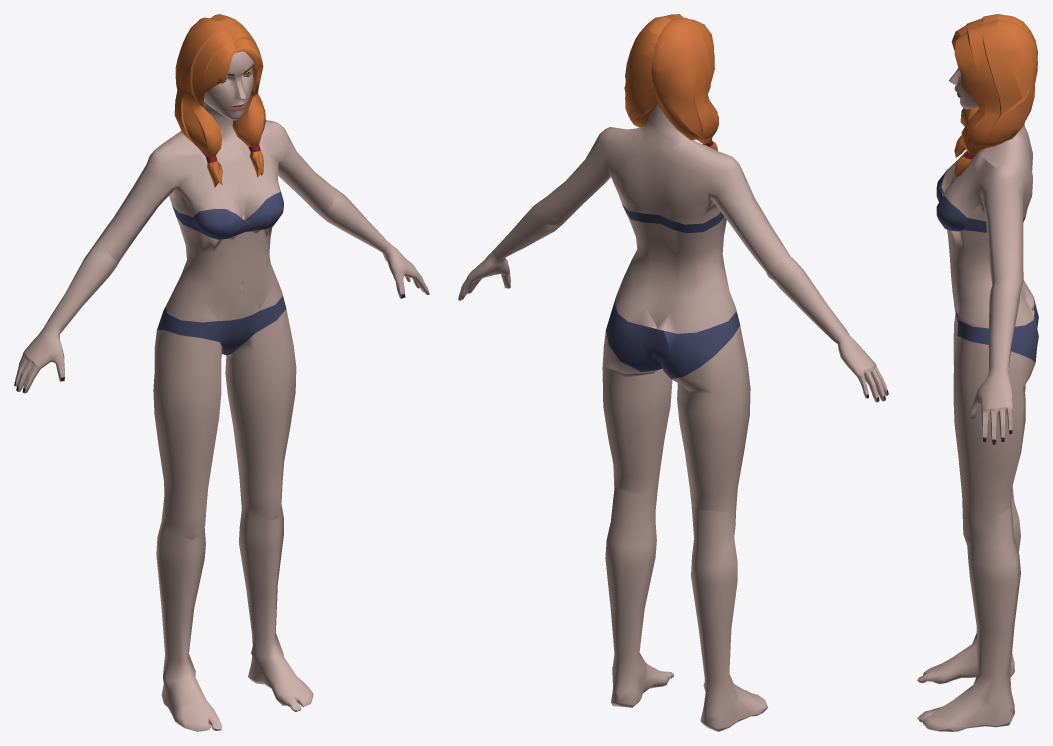
File: female 2.fbx
The picture shows the model from 3 angles, left to right: view 1: azimuth 30°, elevation 25°; view 2: azimuth 150°, elevation 25°; view 3: azimuth 270°, elevation 25°; orthographic projection. The views are drawn at different scales.
Parts seen in each view (by area): view 1: 1087; view 2: 1087; view 3: 1087.
Boxes of the visible parts, bbox=[...] form: 1087: bbox=[14, 14, 429, 731]; 1087: bbox=[458, 14, 888, 731]; 1087: bbox=[917, 14, 1038, 731].
Bounding box in the file's own units: 1.17 × 1.84 × 0.2967.
